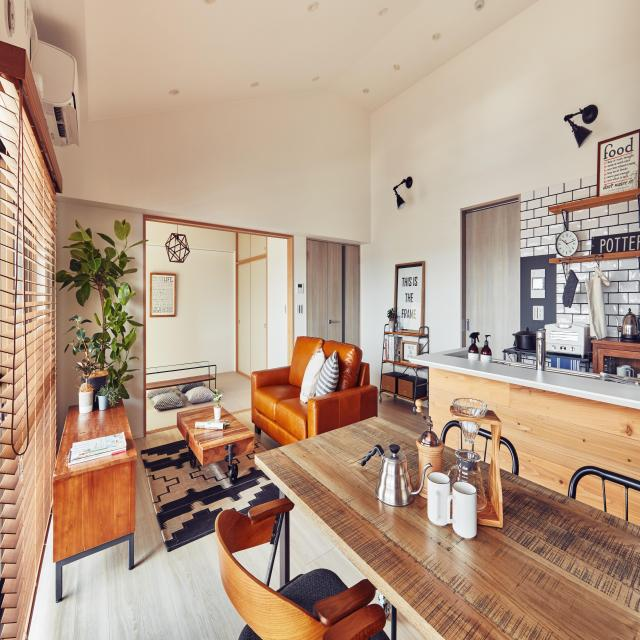vintage chair: (212, 495, 385, 640)
vintage desk: (255, 413, 640, 640), (174, 403, 254, 466)
vintage shelf: (52, 401, 136, 574), (379, 314, 429, 404)
vintage sofa: (254, 338, 374, 440)
